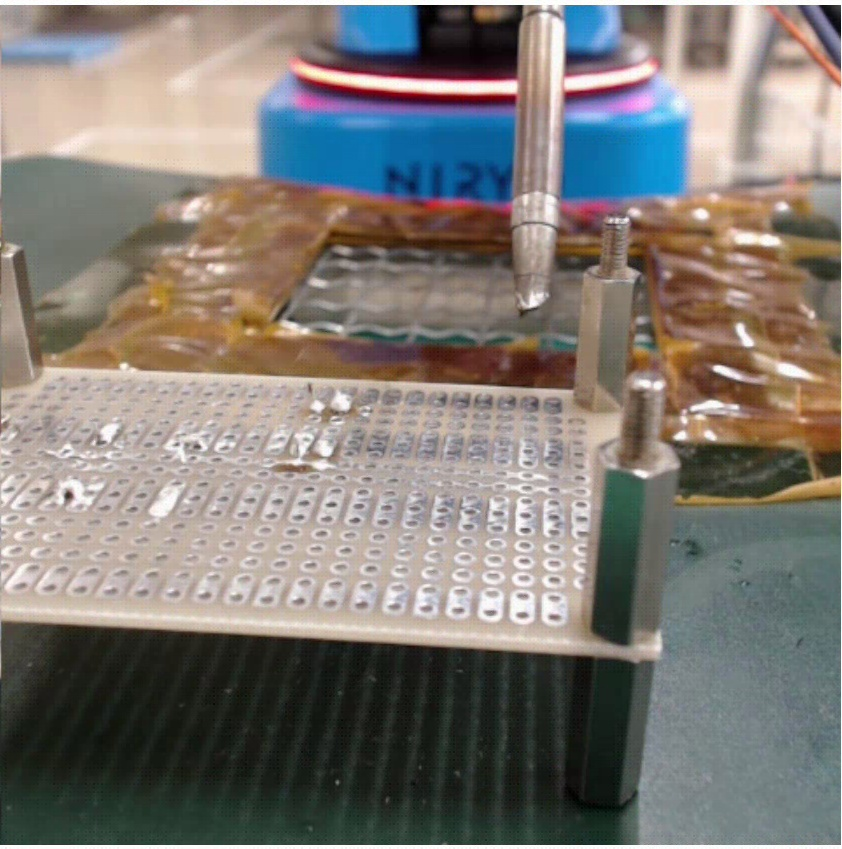soldering_iron: (508, 3, 569, 314)
